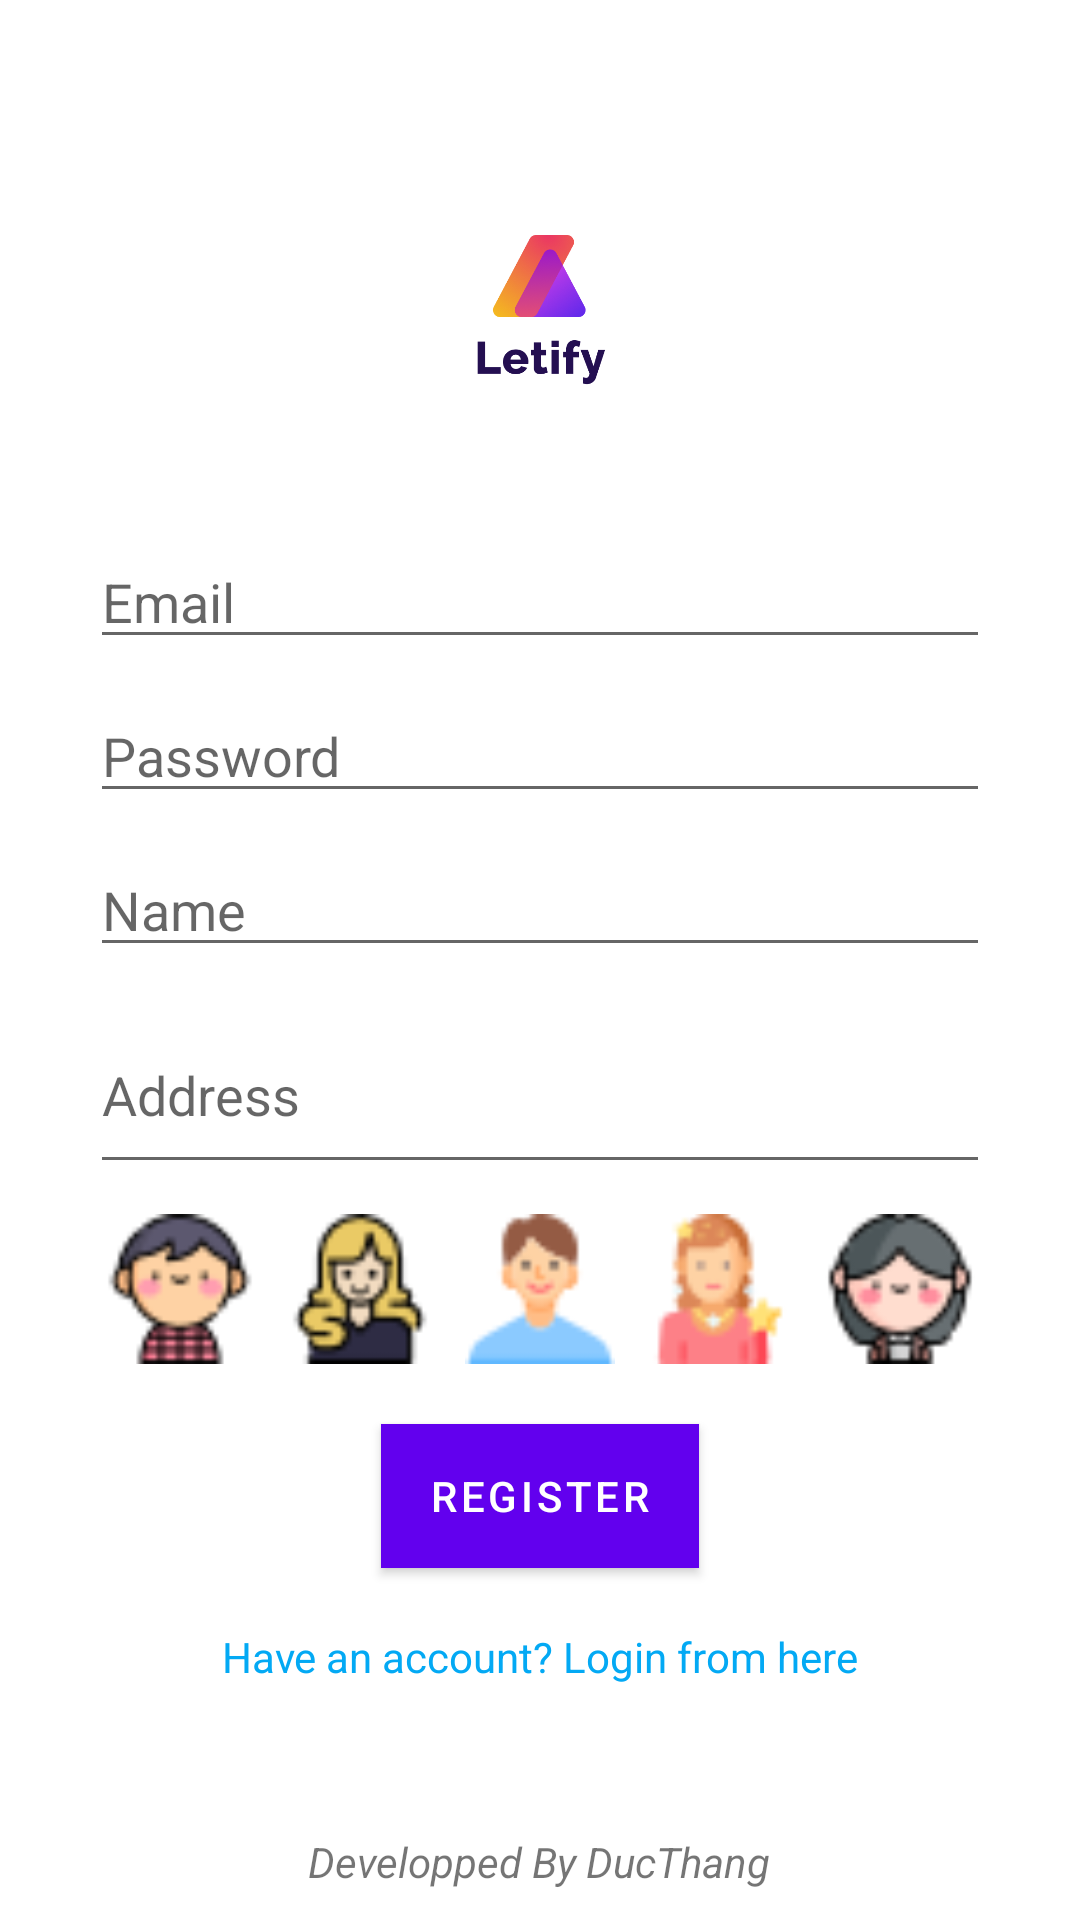

Icon click points for this 1080px x 1920px phone screenshot, format (x=x, y=y):
boy: (x=180, y=1289)
celebrity: (x=720, y=1289)
man: (x=540, y=1289)
